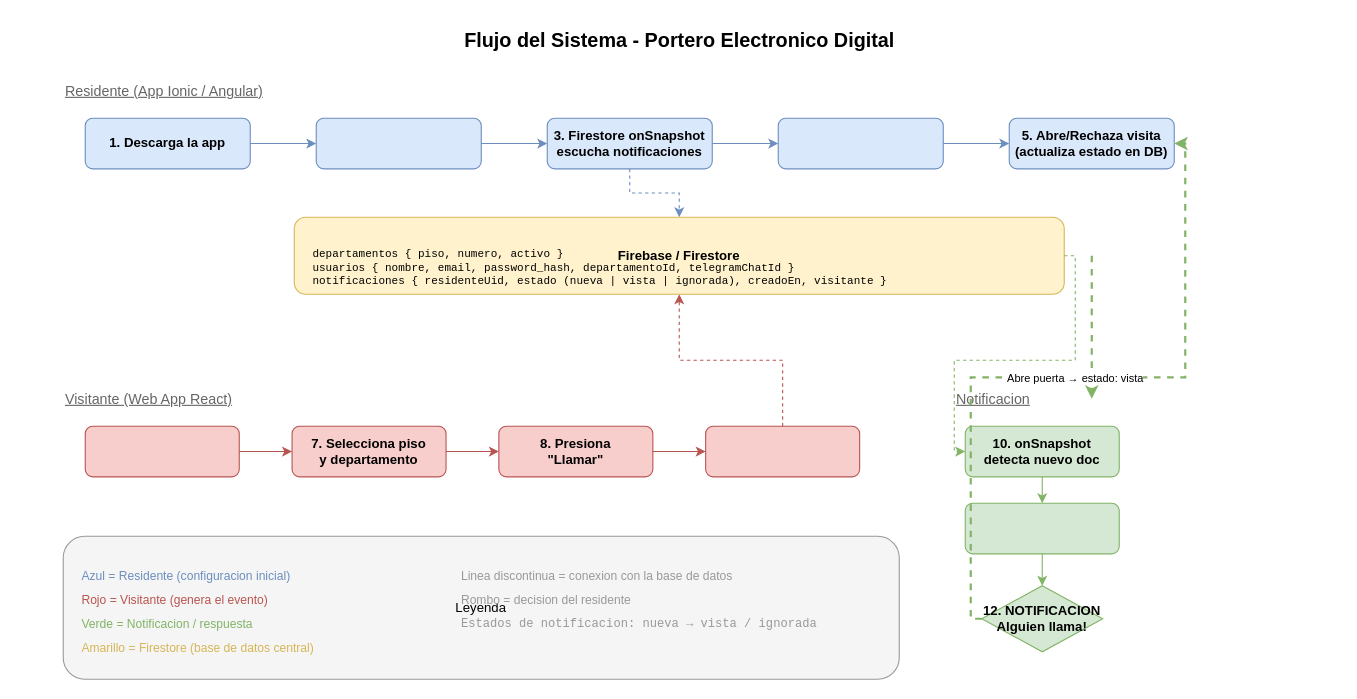
The diagram is 1357 pixels wide and 699 high, and some of its shapes have lost their labels. Each missing label, with the centre of its shape:
"11. Telegram Bot sendMessage()" goes at (1041,528).
"2. Login / Registro (auth custom)" goes at (398,143).
"4. Vincula Telegram Bot API sendMessage" goes at (860,143).
"6. Escanea QR / abre enlace web" goes at (161,451).
"9. crearNotificacion() en Firestore" goes at (782,451).
